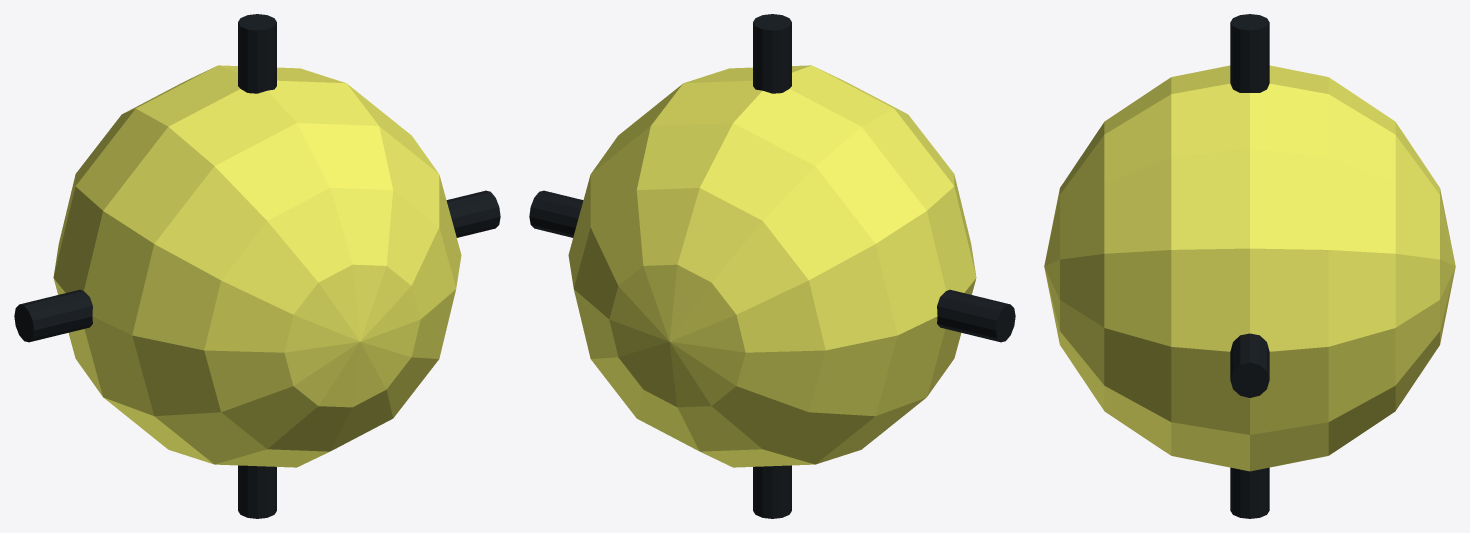
File: SM_AstraResonator.obj
3 renders of one model, left to right at view 1: azimuth 30°, elevation 25°; view 2: azimuth 150°, elevation 25°; view 3: azimuth 270°, elevation 25°, orthographic.
Visible parts, largest first — view 1: SM_AstraResonator; view 2: SM_AstraResonator; view 3: SM_AstraResonator.
Boxes of the visible parts, box(x1,y1,x2,y2) form: SM_AstraResonator: box(14, 14, 500, 518); SM_AstraResonator: box(529, 14, 1015, 518); SM_AstraResonator: box(1044, 14, 1455, 518).
Bounding box in the file's own units: 110 × 110 × 84.
